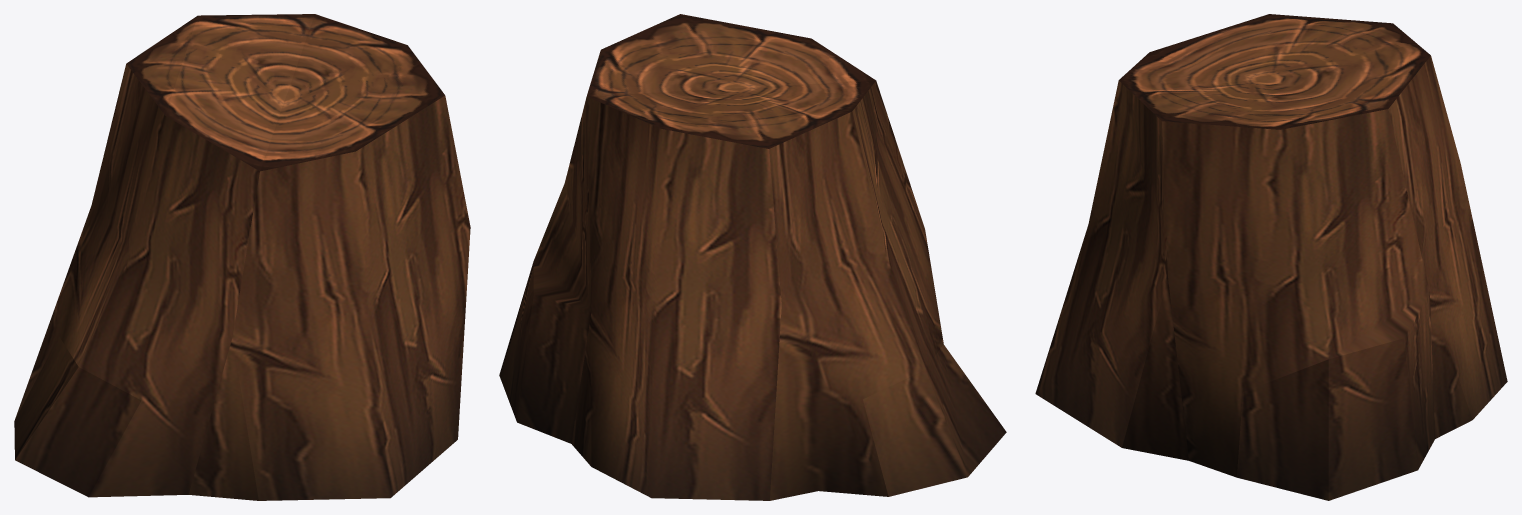
The model's file is fanasty_mod_stump02.fbx.
The picture shows the model from 3 angles, left to right: view 1: azimuth 30°, elevation 25°; view 2: azimuth 150°, elevation 25°; view 3: azimuth 270°, elevation 25°; orthographic projection.
Parts seen in each view (by area): view 1: stump_02; view 2: stump_02; view 3: stump_02.
Boxes of the visible parts, x1=… form: stump_02: x1=14, y1=14, x2=470, y2=500; stump_02: x1=499, y1=14, x2=1006, y2=500; stump_02: x1=1035, y1=14, x2=1507, y2=500.
Size of the model in its own units: 1.4 by 0.9854 by 1.24.
